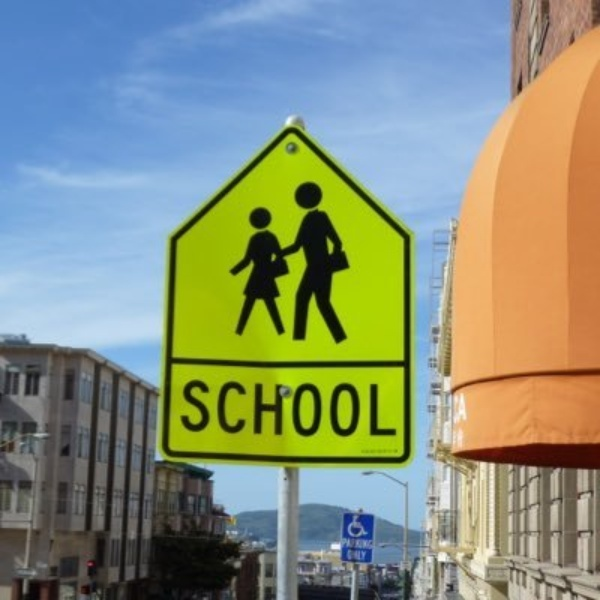text: (193, 380, 208, 439), (209, 380, 224, 439), (225, 380, 240, 439), (241, 380, 256, 439), (257, 380, 272, 439), (273, 380, 288, 439), (289, 380, 304, 439), (305, 380, 320, 439), (321, 380, 336, 439), (337, 380, 352, 439), (353, 380, 368, 439), (369, 380, 384, 439), (385, 380, 400, 439), (182, 380, 192, 439), (457, 391, 464, 422), (353, 538, 368, 550), (353, 550, 367, 562), (341, 538, 352, 550), (465, 391, 469, 422), (369, 538, 374, 550), (347, 550, 352, 562)
